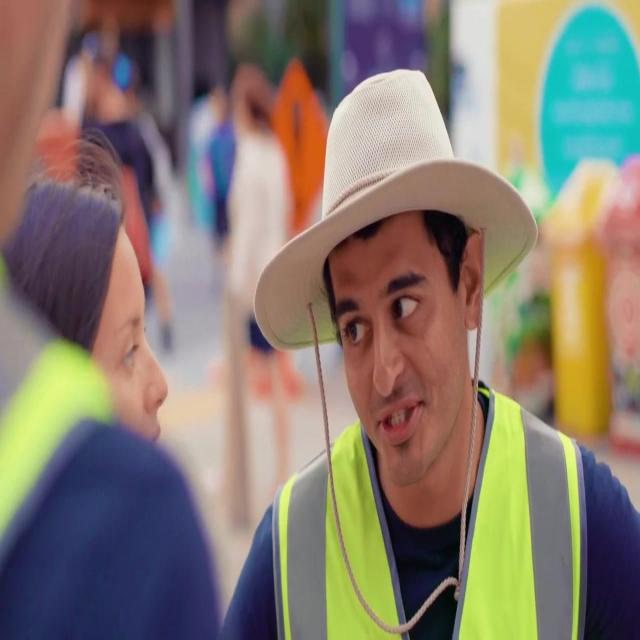Reflective-Jacket: (269, 401, 595, 640), (1, 272, 112, 635)
